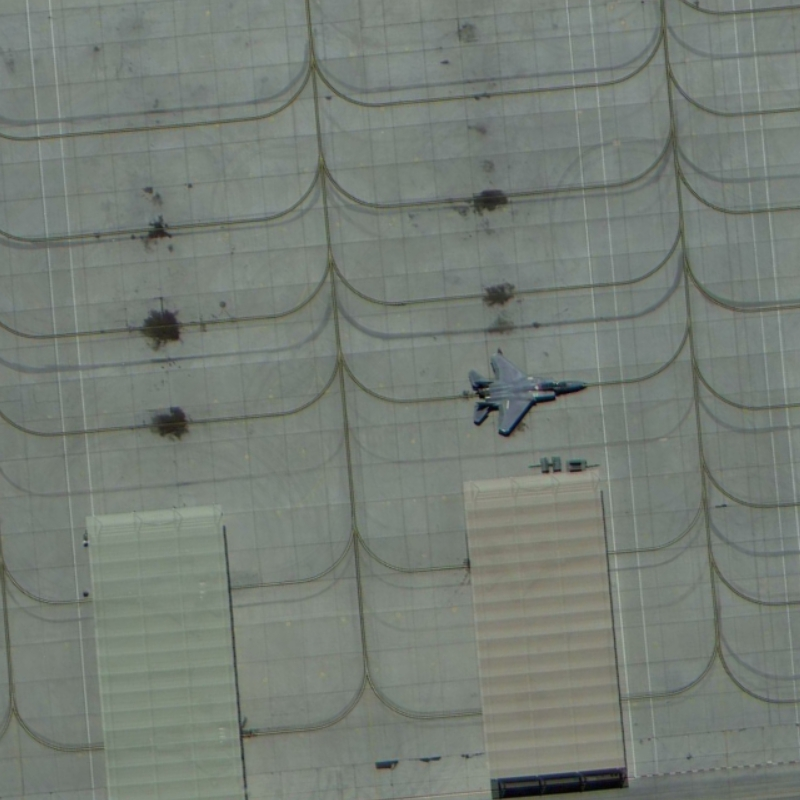A13: (465, 339, 599, 448)
